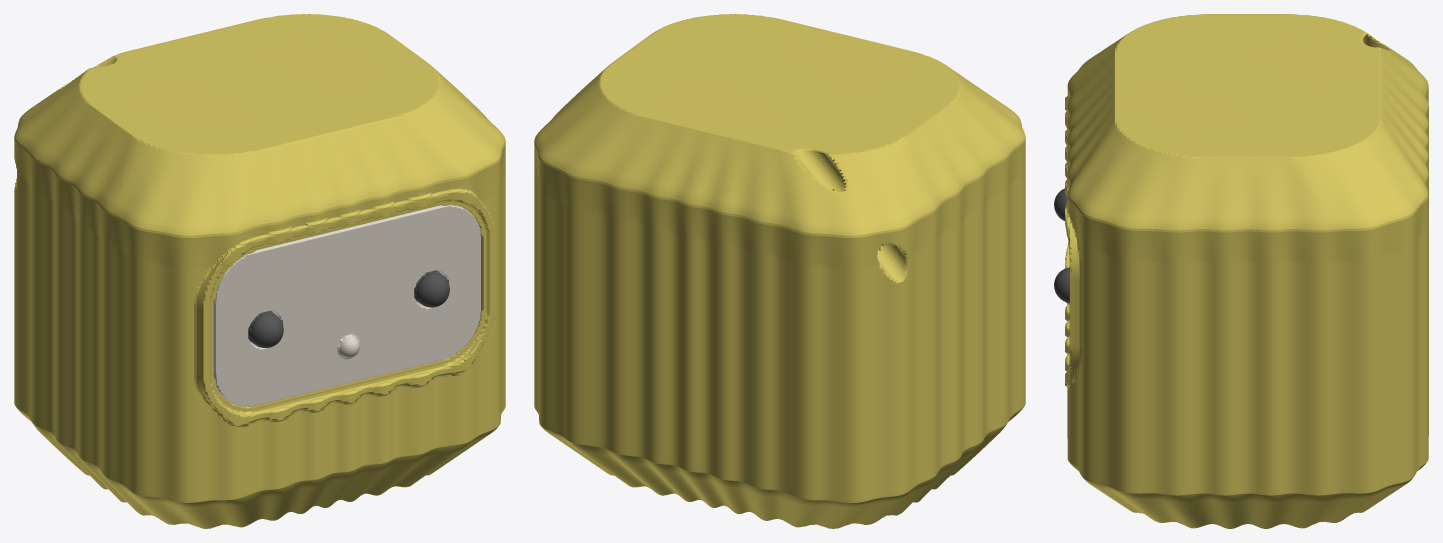
Rendered from bloki_bisel.glb.
The picture shows the model from 3 angles, left to right: view 1: azimuth 30°, elevation 25°; view 2: azimuth 150°, elevation 25°; view 3: azimuth 270°, elevation 25°; orthographic projection.
Parts seen in each view (by area): view 1: world; view 2: world; view 3: world.
Boxes of the visible parts, box(x1,y1,x2,y2) form: world: box(14, 14, 505, 528); world: box(534, 14, 1025, 528); world: box(1054, 14, 1428, 528).
Size of the model in its own units: 36.56 by 34.5 by 31.51.
